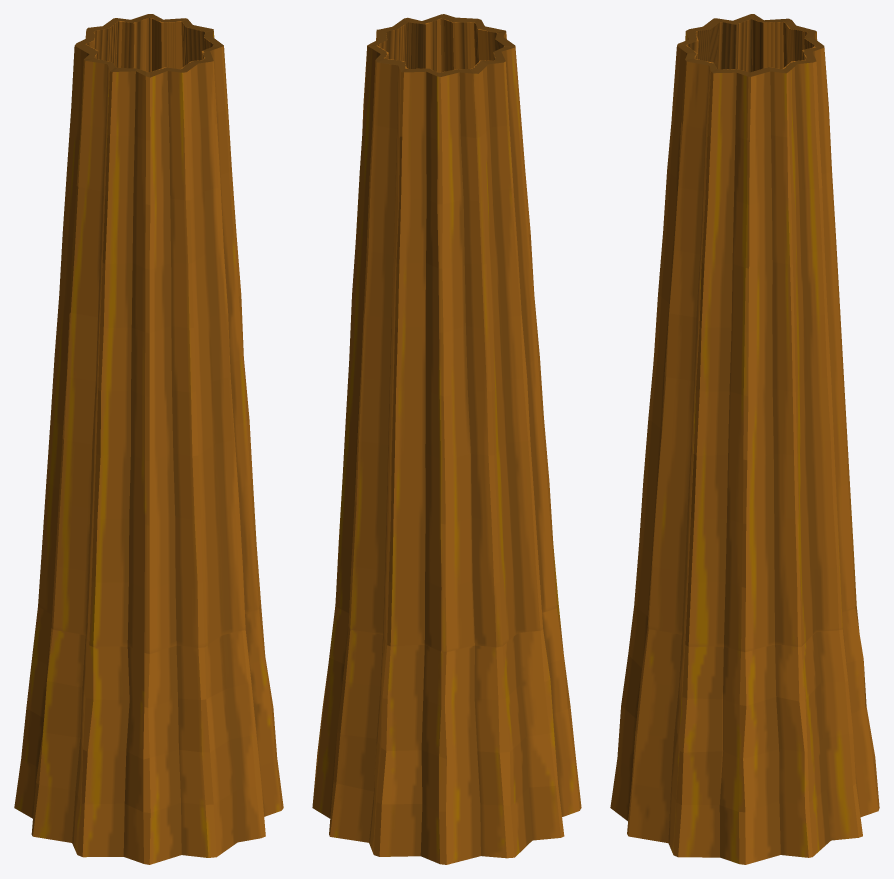
The model's file is Tree.glb.
The picture shows the model from 3 angles, left to right: view 1: azimuth 30°, elevation 25°; view 2: azimuth 150°, elevation 25°; view 3: azimuth 270°, elevation 25°; orthographic projection.
Parts seen in each view (by area): view 1: Cylinder.001, Cylinder; view 2: Cylinder.001, Cylinder; view 3: Cylinder.001, Cylinder.
Part boxes in pixels (<box>): Cylinder.001: <box>38,14,261,653</box>; Cylinder: <box>14,606,283,864</box>; Cylinder.001: <box>335,14,558,651</box>; Cylinder: <box>312,606,581,864</box>; Cylinder.001: <box>634,14,856,651</box>; Cylinder: <box>610,605,879,864</box>.
Size of the model in its own units: 2.42 by 7.55 by 2.41.
Materials: 1 (1 with a texture image).
